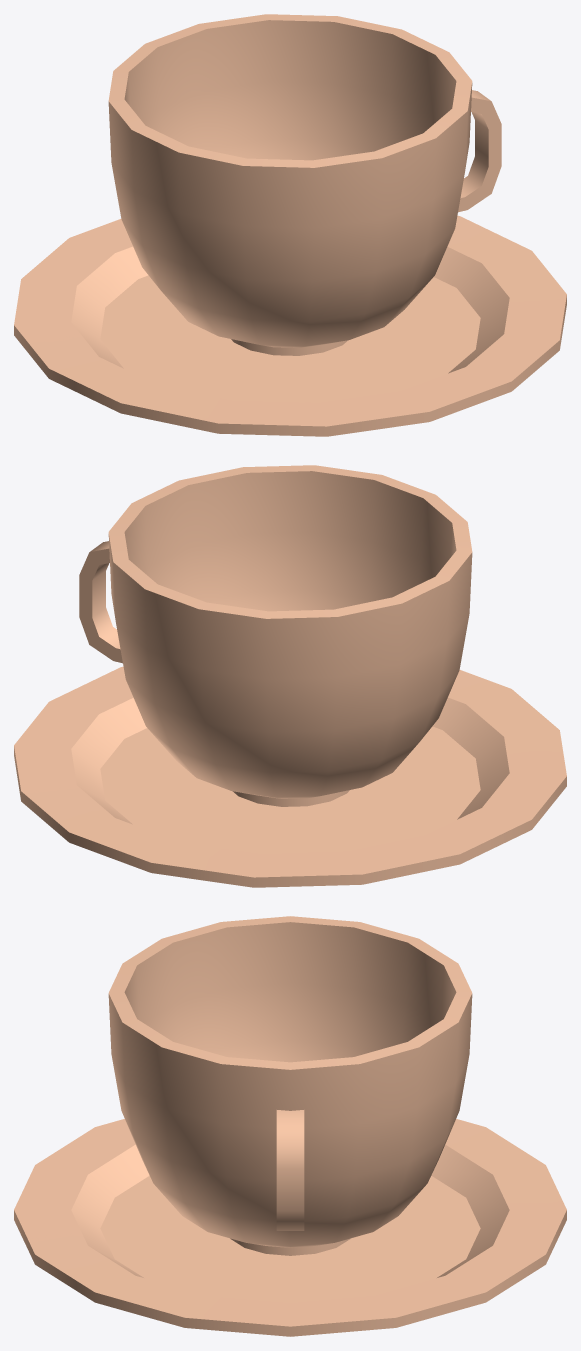
The model's file is EN_CupSaucer.002_V01.fbx.
3 renders of one model, top to bottom at view 1: azimuth 30°, elevation 25°; view 2: azimuth 150°, elevation 25°; view 3: azimuth 270°, elevation 25°, orthographic.
Parts seen in each view (by area): view 1: GEO_Cup.002, GEO_Saucer.002; view 2: GEO_Cup.002, GEO_Saucer.002; view 3: GEO_Cup.002, GEO_Saucer.002.
Boxes of the visible parts, x1,y1,x2,y2 form: GEO_Cup.002: (108, 14, 501, 355); GEO_Saucer.002: (14, 215, 566, 436); GEO_Cup.002: (79, 465, 472, 806); GEO_Saucer.002: (14, 666, 566, 887); GEO_Cup.002: (108, 916, 472, 1255); GEO_Saucer.002: (14, 1119, 566, 1336).
Size of the model in its own units: 18.39 by 9.02 by 18.39.
Materials: 1 (1 with a texture image).
